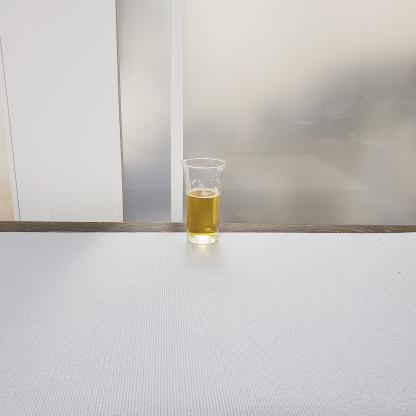glass: (176, 151, 240, 260)
